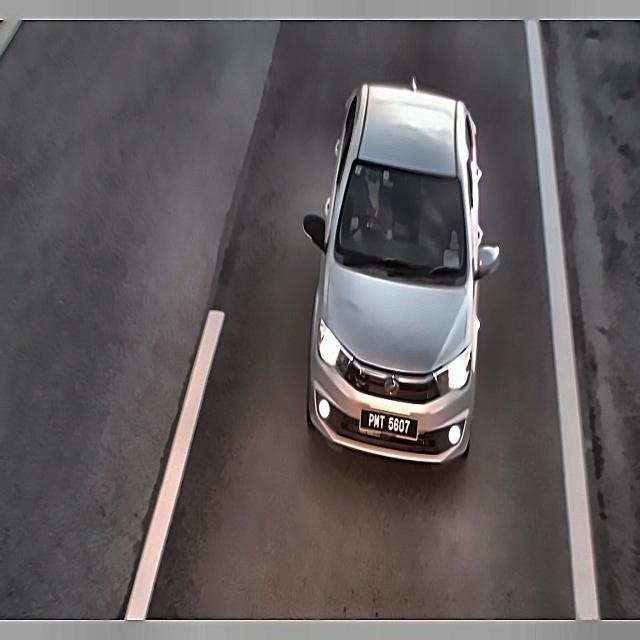car: (359, 404, 422, 449)
